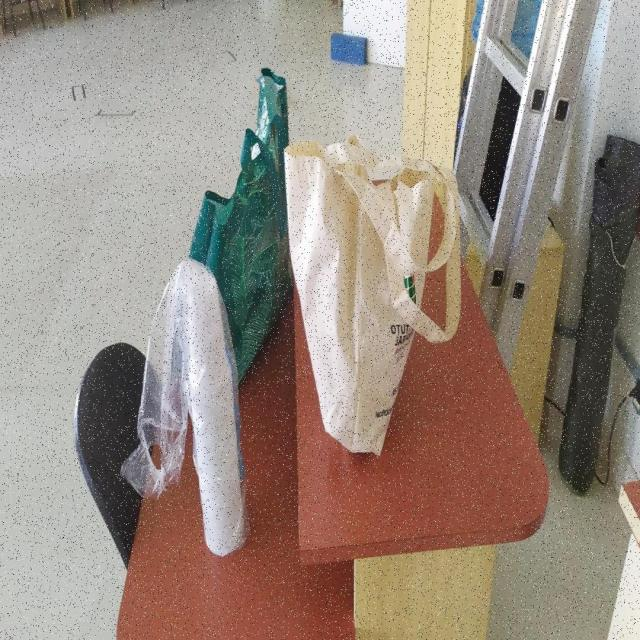Bag: (284, 136, 465, 458), (186, 68, 296, 385)
